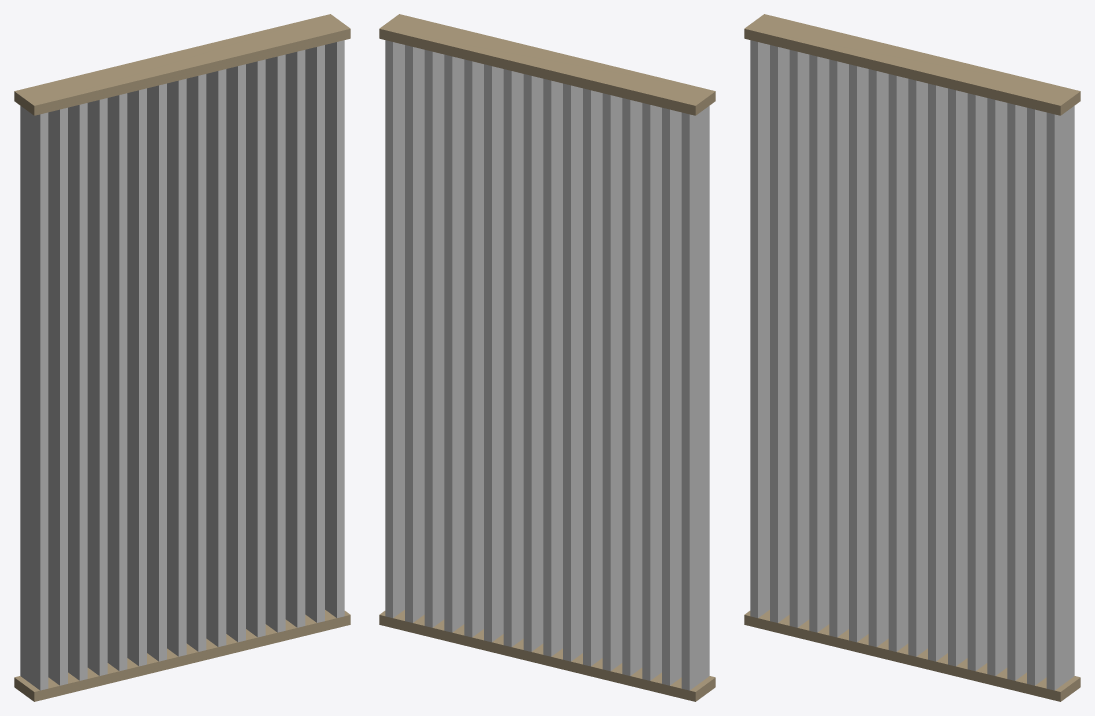
File: OA_Screen_Vertical_2m.fbx
The picture shows the model from 3 angles, left to right: view 1: azimuth 30°, elevation 25°; view 2: azimuth 150°, elevation 25°; view 3: azimuth 330°, elevation 25°; orthographic projection.
Parts seen in each view (by area): view 1: OA_Screen_Vertical_2m; view 2: OA_Screen_Vertical_2m; view 3: OA_Screen_Vertical_2m.
Part boxes in pixels (x1=…): OA_Screen_Vertical_2m: x1=14, y1=14, x2=350, y2=701; OA_Screen_Vertical_2m: x1=379, y1=14, x2=715, y2=701; OA_Screen_Vertical_2m: x1=744, y1=14, x2=1080, y2=701.
Bounding box in the file's own units: 2 × 3.6 × 0.22.
